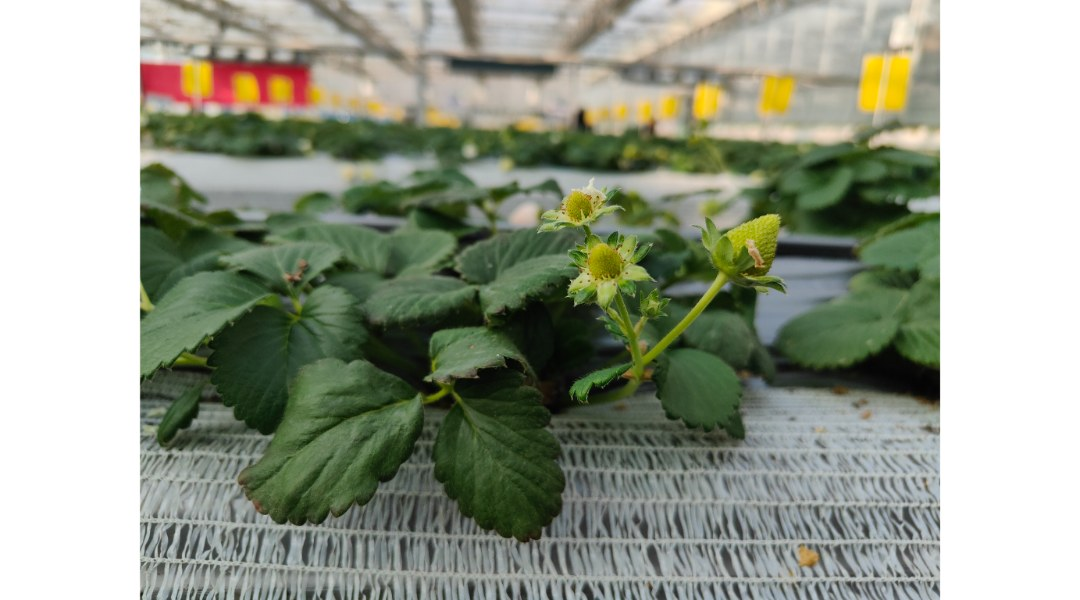berry: (683, 195, 799, 303), (559, 219, 656, 307), (540, 170, 612, 234)
strain: (638, 275, 724, 369)
